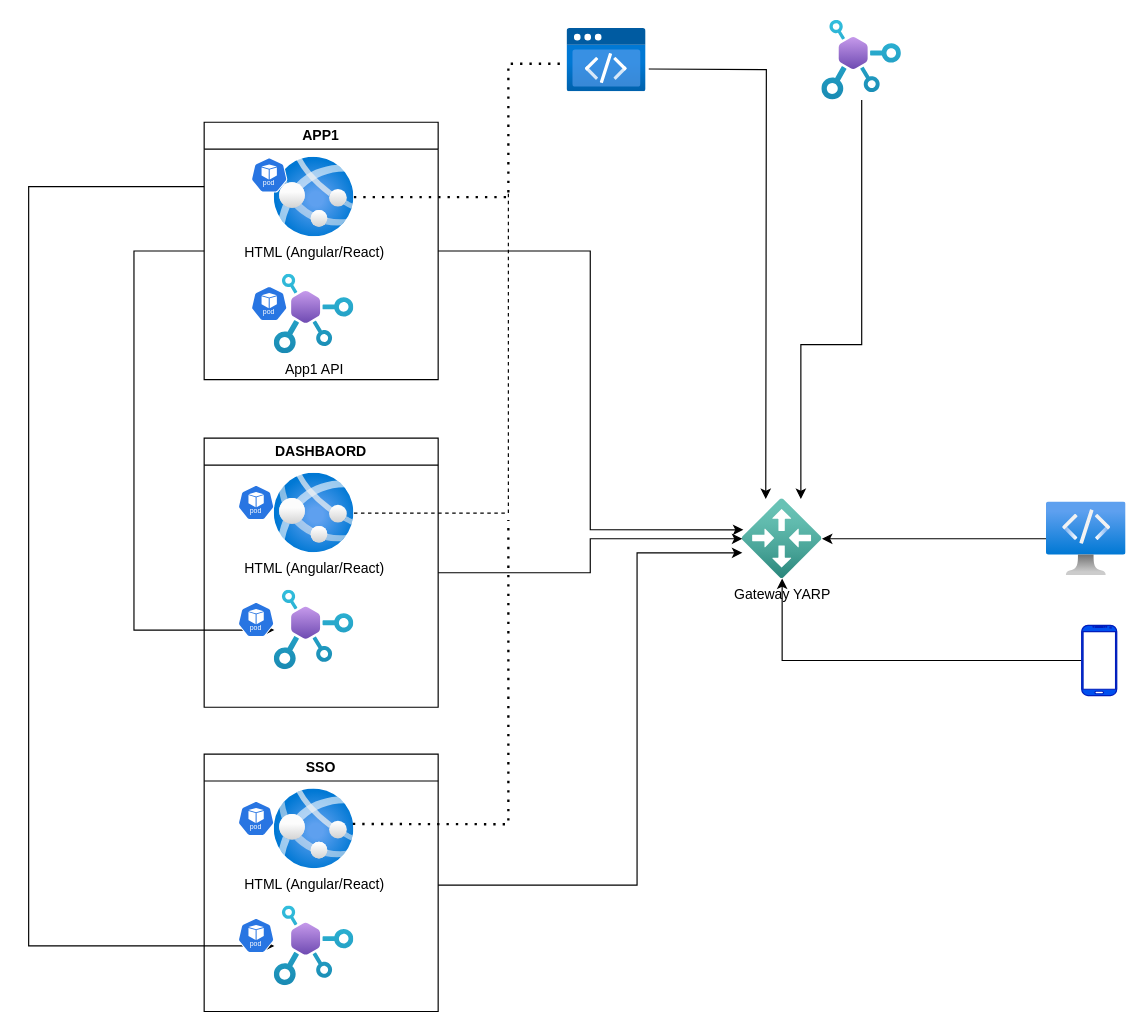
Image size: 1147x1032. Some labels were removed from this diagram. Each missing label, with the centre of its shape:
"Configuration Gateway" belongs at point 861,59.
"Dasbhoard API" belongs at point 313,629.
"Design System - (style / kontrolki / style aplikacji)" belongs at point 606,59.
"SSO API" belongs at point 313,945.
